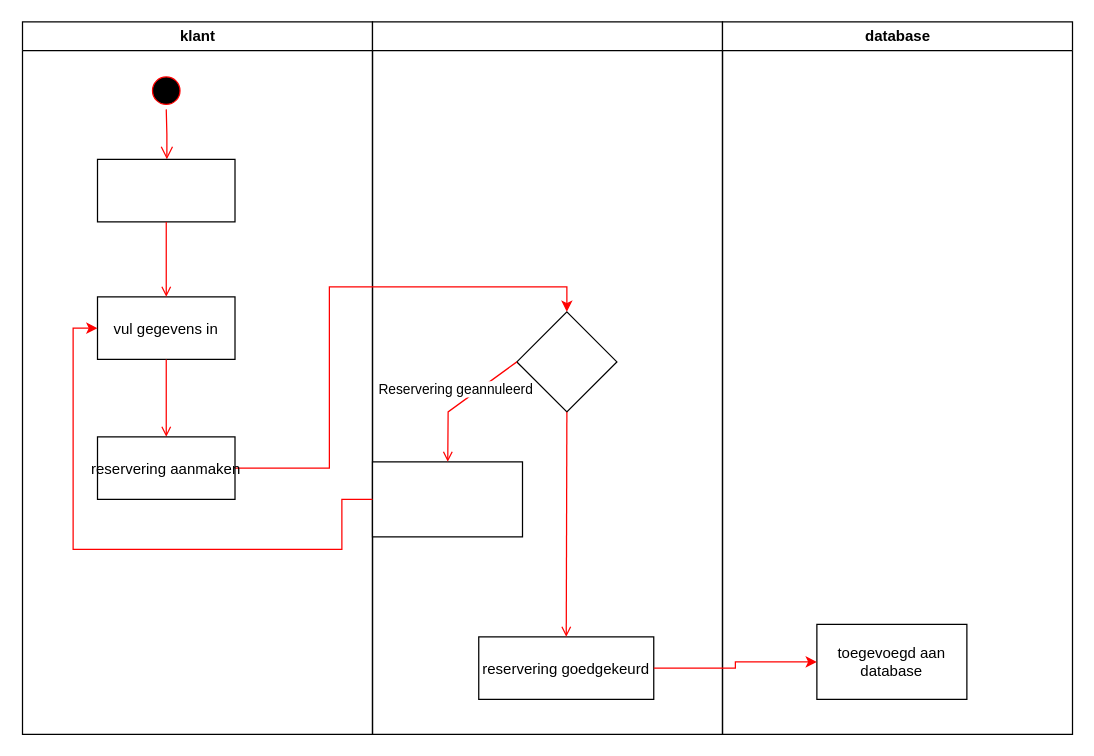
Image size: 1094x756. Some labels were removed from this diagram. The shapes that lost their labels are listed below. From the top down, each one's box as (x1, y1, x2, y2) in pixels, then its label:
(96, 158, 235, 222): inloggen
(371, 21, 722, 734): beheer
(371, 461, 522, 537): Vul andere datum in
